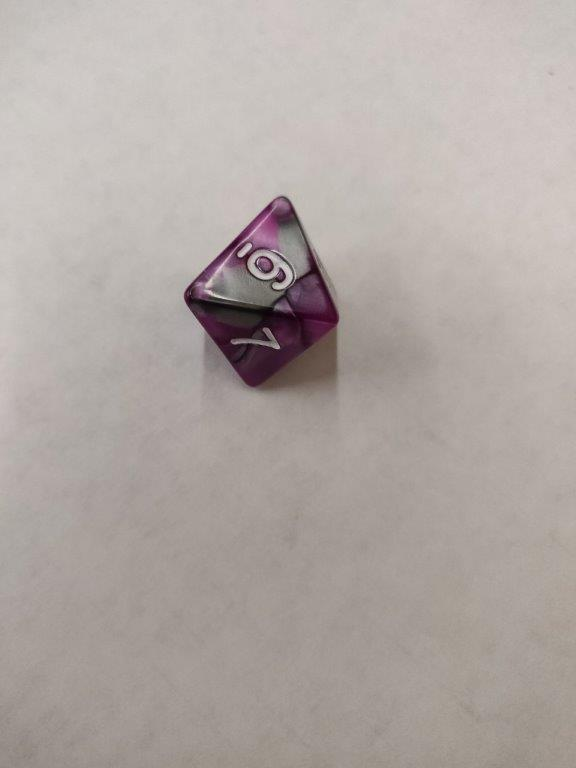d8-6: (184, 194, 341, 389)
